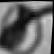not correct: (0, 1, 54, 54)
